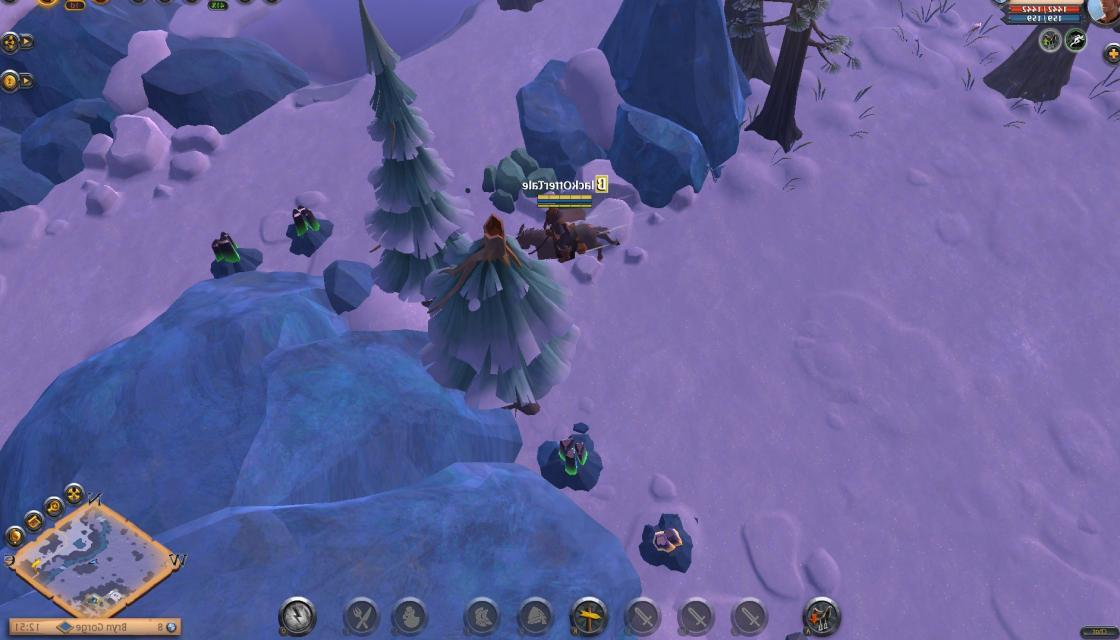copperore: (634, 510, 698, 563)
tinore: (538, 430, 602, 489), (204, 226, 264, 282), (282, 203, 332, 256)
